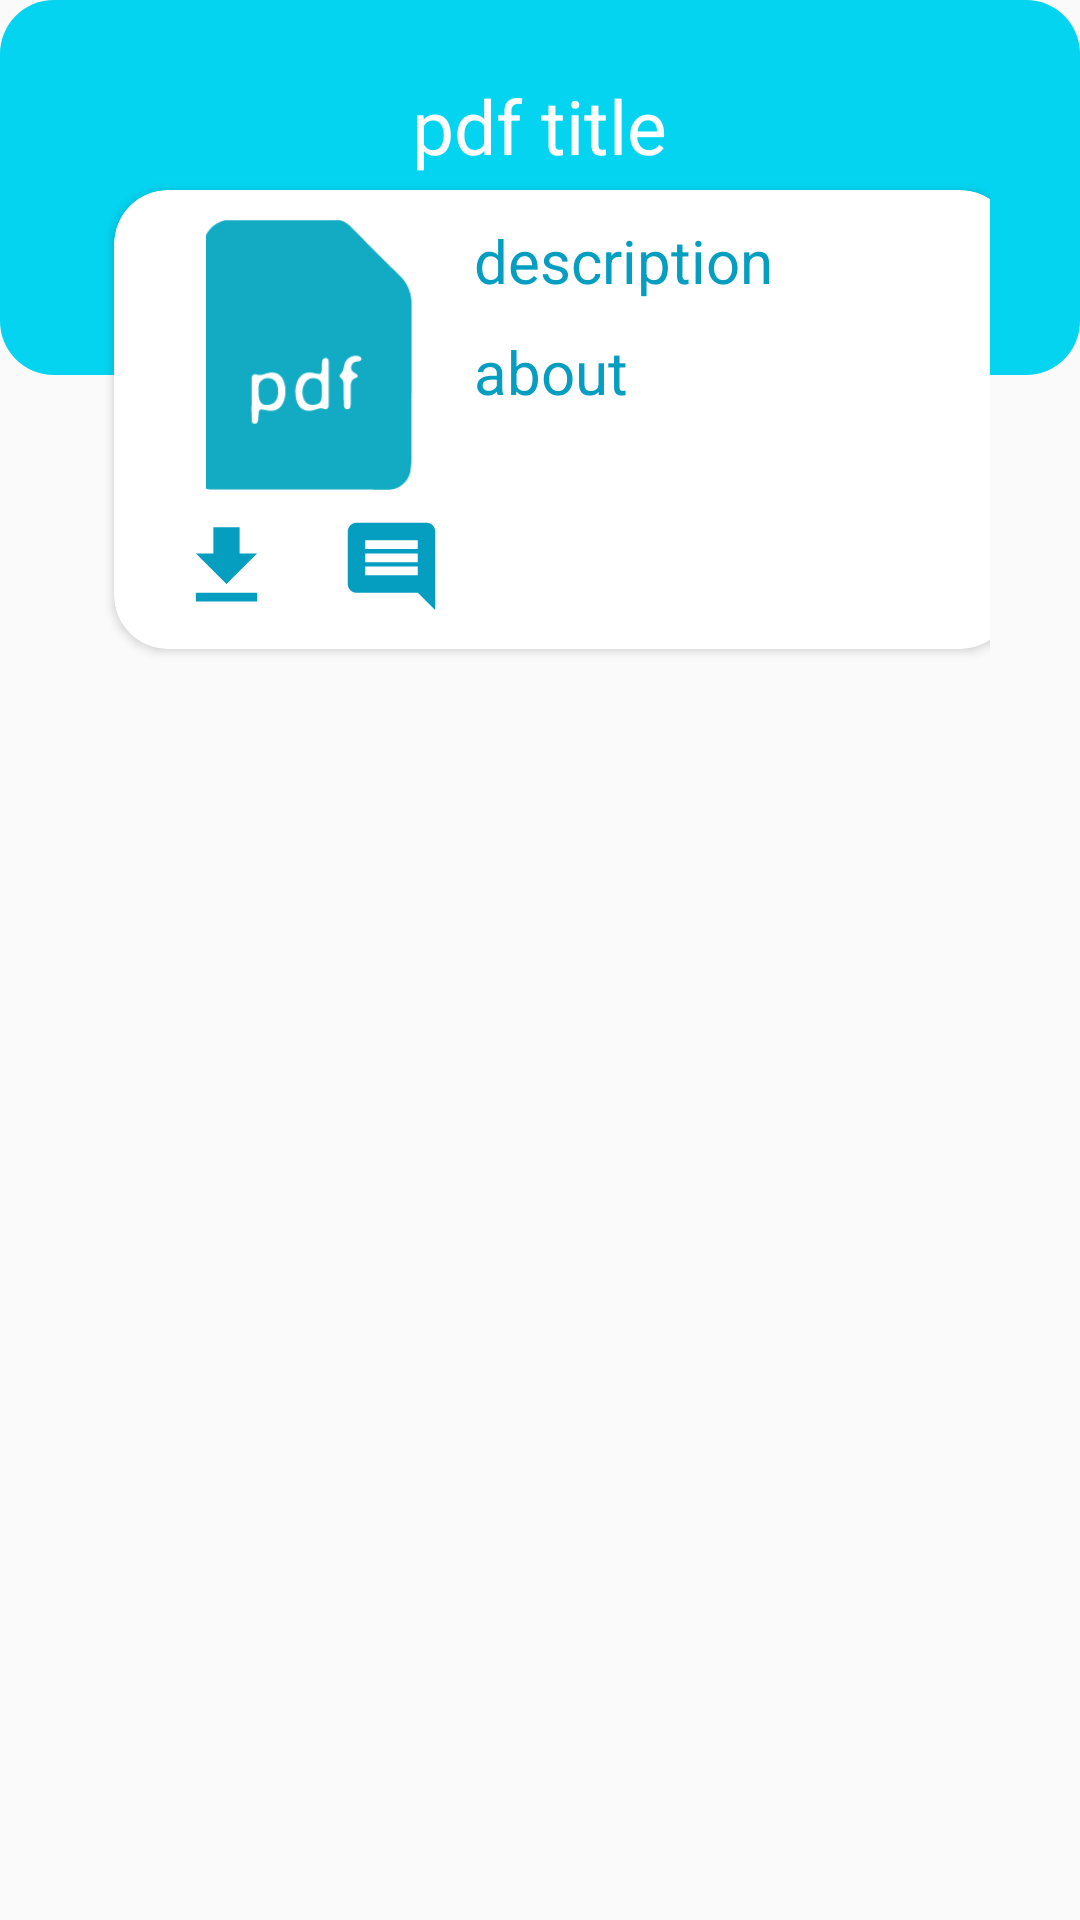

Point at icon controls on the screen. Image size 1080*1920, points as point (x, y).
comment: point (391, 566)
download: point (226, 564)
